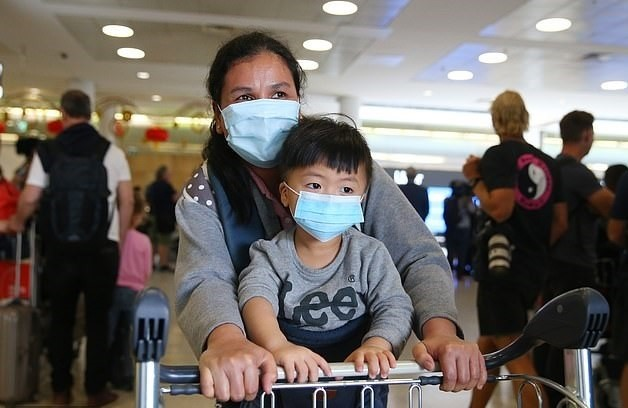face_with_mask: (207, 50, 310, 178), (276, 145, 377, 255)
